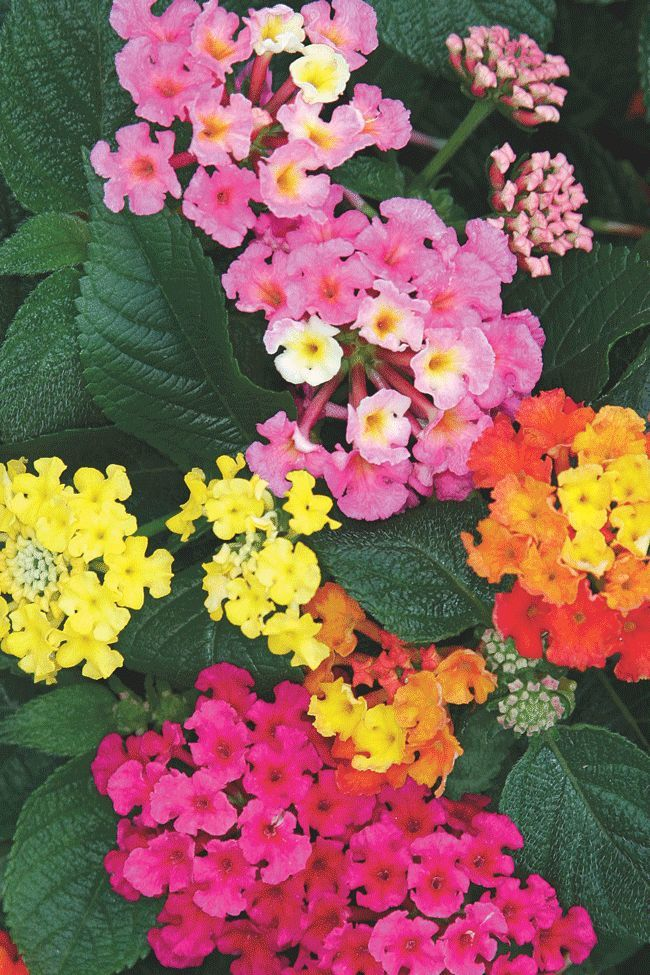lantana: (93, 124, 179, 213), (117, 41, 208, 122), (416, 253, 502, 334), (363, 202, 445, 283), (411, 332, 493, 408), (291, 241, 366, 323), (327, 448, 412, 520), (248, 414, 324, 493), (187, 166, 261, 247), (413, 404, 493, 474), (550, 591, 619, 672), (246, 730, 319, 803), (469, 417, 544, 488), (240, 802, 308, 880), (280, 110, 374, 165), (152, 773, 236, 834), (220, 247, 292, 317), (260, 144, 327, 218), (513, 388, 587, 453), (460, 811, 522, 888), (302, 3, 377, 66), (193, 4, 254, 80), (345, 394, 412, 462), (356, 831, 414, 909), (106, 539, 173, 606), (492, 873, 555, 944), (444, 901, 505, 974), (195, 841, 255, 914), (193, 93, 250, 169), (489, 479, 561, 539), (272, 321, 338, 385), (349, 84, 412, 150), (62, 574, 126, 637), (376, 911, 439, 975), (194, 703, 246, 780), (408, 853, 468, 919), (361, 289, 425, 349), (109, 1, 198, 43), (352, 704, 407, 771), (493, 592, 549, 657), (520, 544, 579, 604), (262, 541, 319, 601), (398, 671, 448, 739), (71, 511, 137, 562), (463, 521, 516, 584), (59, 630, 124, 680), (410, 726, 464, 786), (317, 585, 365, 652), (291, 49, 349, 104), (309, 681, 365, 736), (207, 482, 262, 537), (144, 835, 195, 892), (12, 608, 56, 674), (272, 614, 327, 665), (71, 466, 129, 514), (561, 467, 605, 525), (439, 652, 493, 699), (24, 457, 62, 522), (285, 475, 328, 532), (564, 530, 615, 576), (247, 8, 301, 51), (602, 565, 647, 614), (41, 497, 80, 549), (612, 509, 650, 558)
